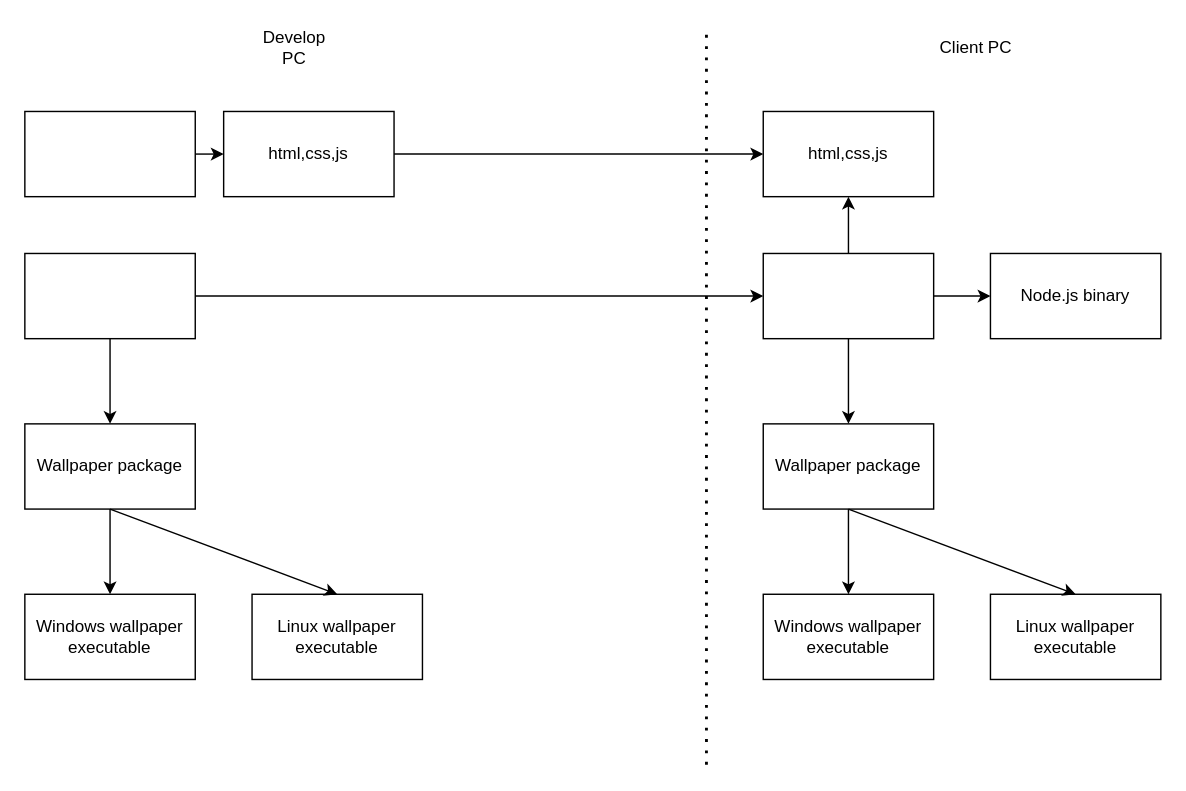
Image size: 1186x791. Some labels were removed from this diagram. Each missing label, with the box of its shape:
Angular: (23, 110, 195, 197)
Clear Node.js http-server: (23, 252, 195, 339)
Source code: (762, 252, 934, 339)
